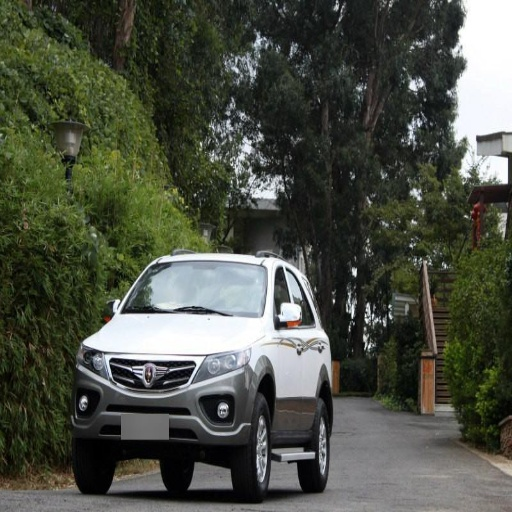front_bumper: (73, 351, 256, 455)
front_glass: (121, 261, 266, 317)
front_left_door: (271, 266, 301, 433)
